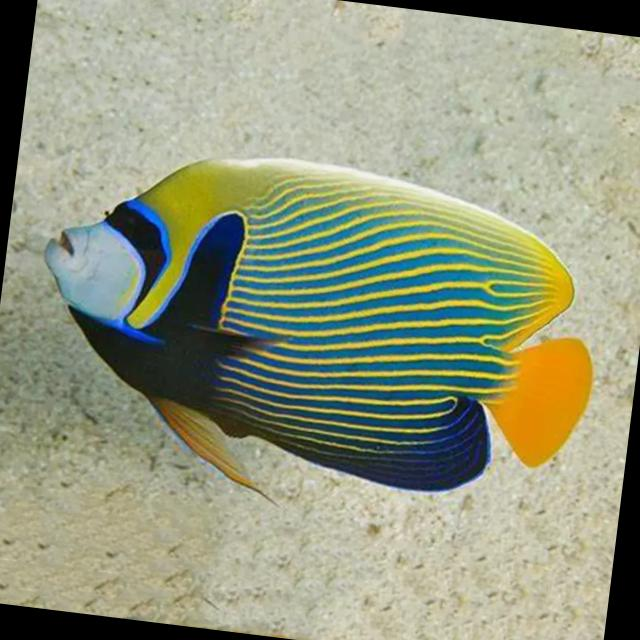AngelFish: (18, 130, 612, 530)
